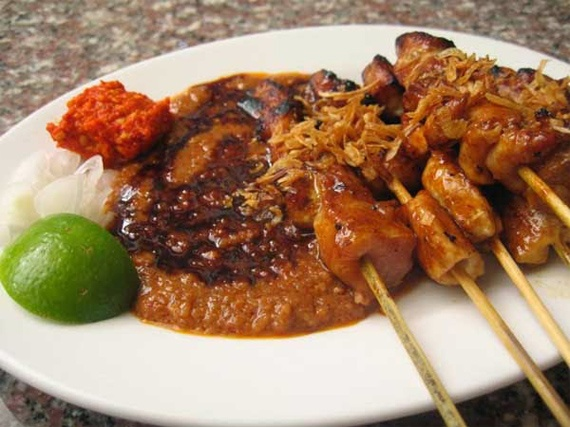sate_madura: (198, 33, 570, 427)
